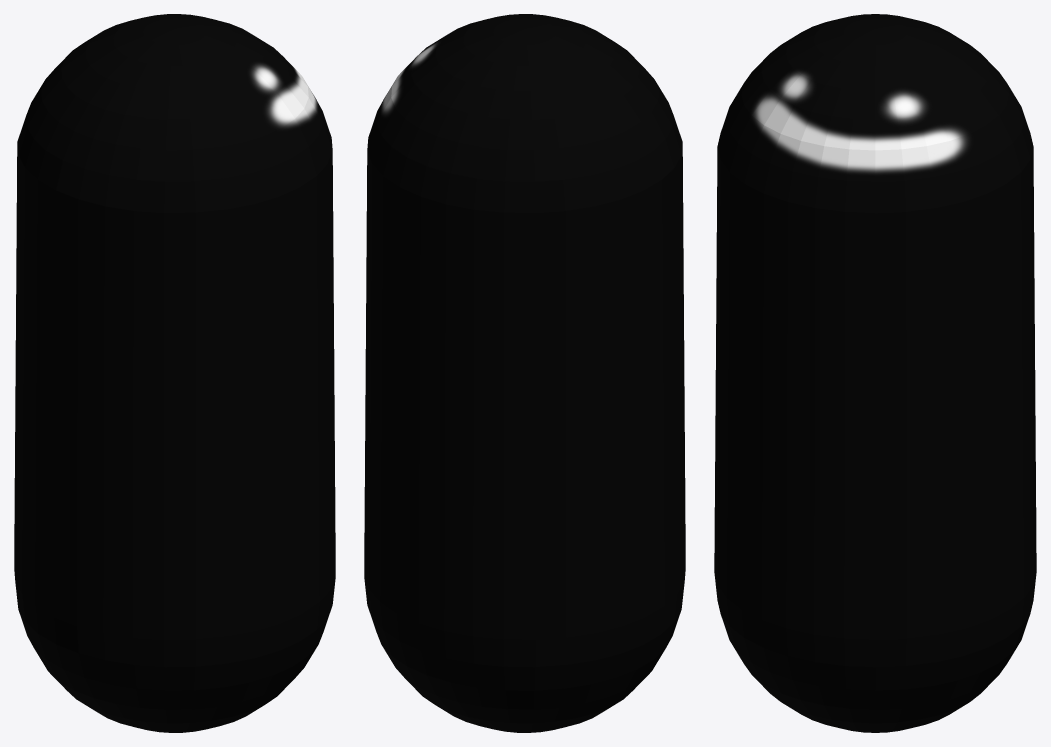
File: netPlayer.gltf
3 renders of one model, left to right at view 1: azimuth 30°, elevation 25°; view 2: azimuth 150°, elevation 25°; view 3: azimuth 270°, elevation 25°, orthographic.
Parts seen in each view (by area): view 1: Sphere; view 2: Sphere; view 3: Sphere.
Part boxes in pixels (left/top/right/bottom): Sphere: left=14, top=14, right=335, bottom=732; Sphere: left=364, top=14, right=685, bottom=732; Sphere: left=714, top=14, right=1036, bottom=732.
Bounding box in the file's own units: 2 × 4.72 × 2.
Materials: 1 (1 with a texture image).
